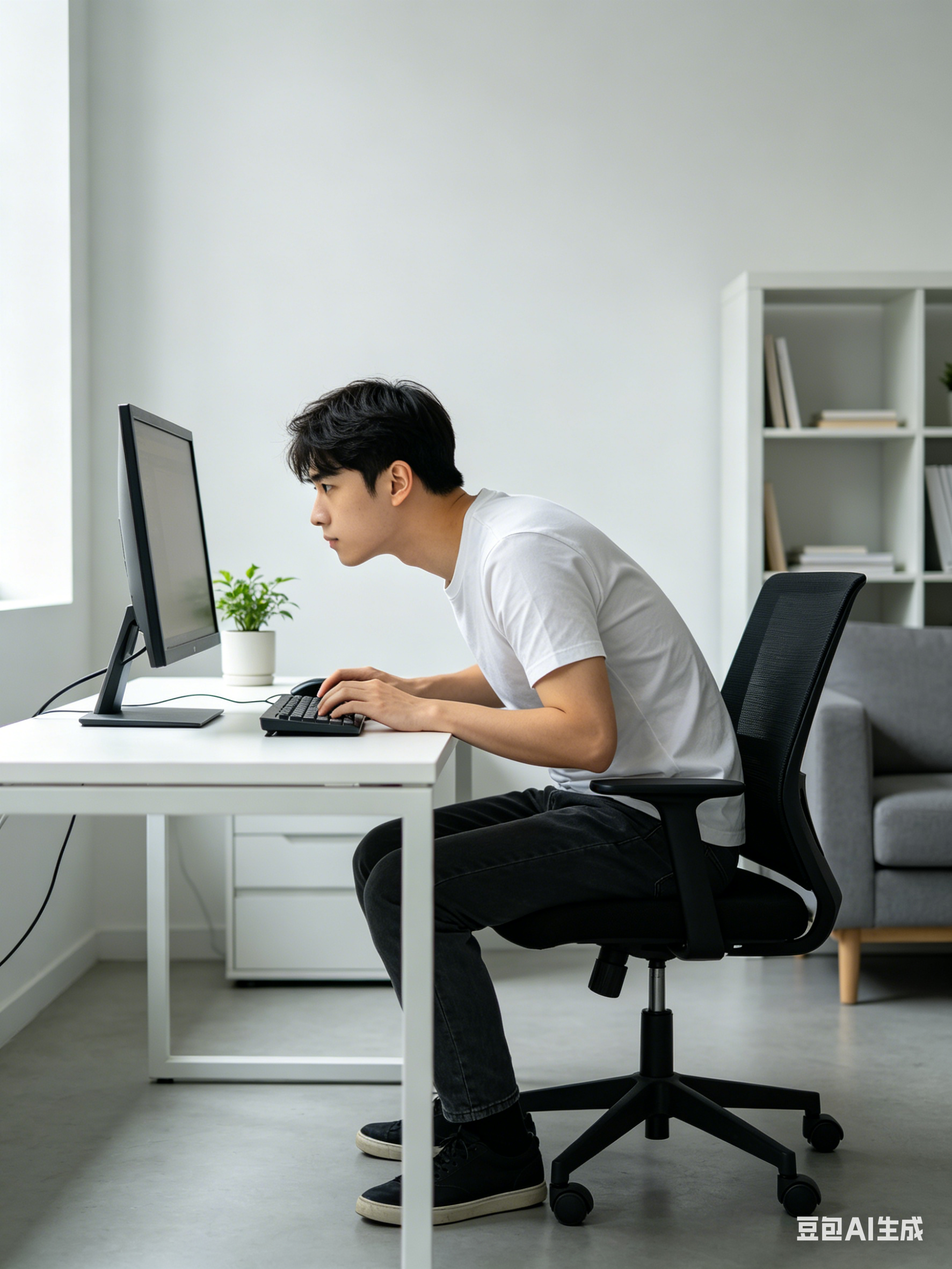sitting_bad: (307, 397, 741, 1205)
